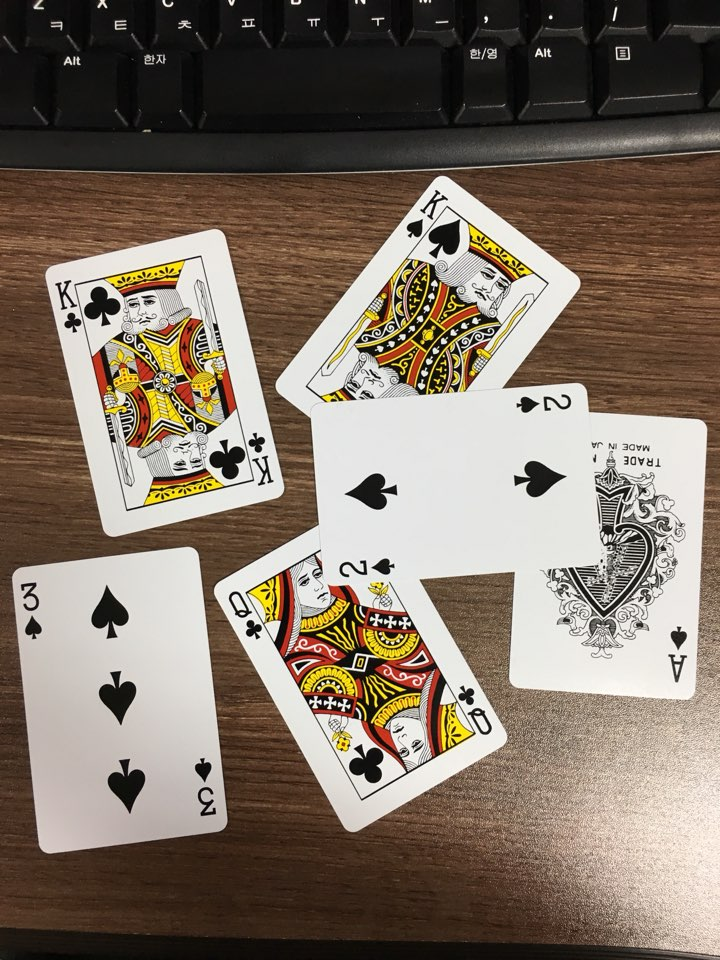ace: (504, 391, 712, 719)
king: (271, 171, 584, 472), (38, 229, 286, 542)
queen: (205, 504, 517, 840)
